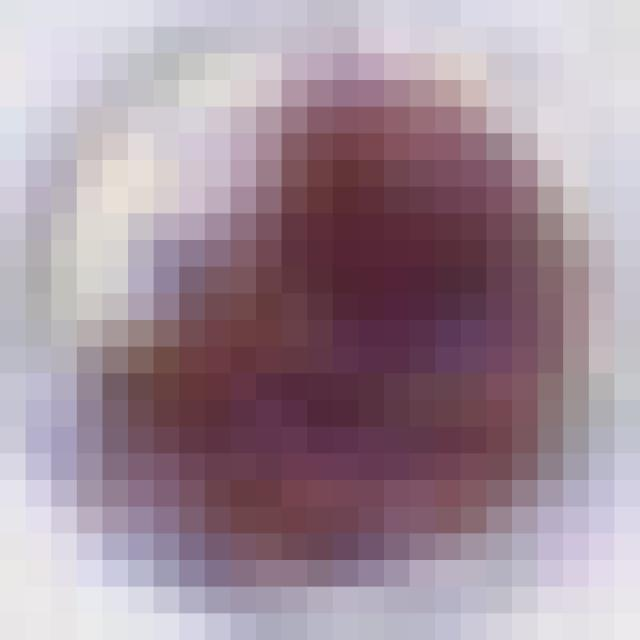cytoplasm: (23, 0, 614, 613)
